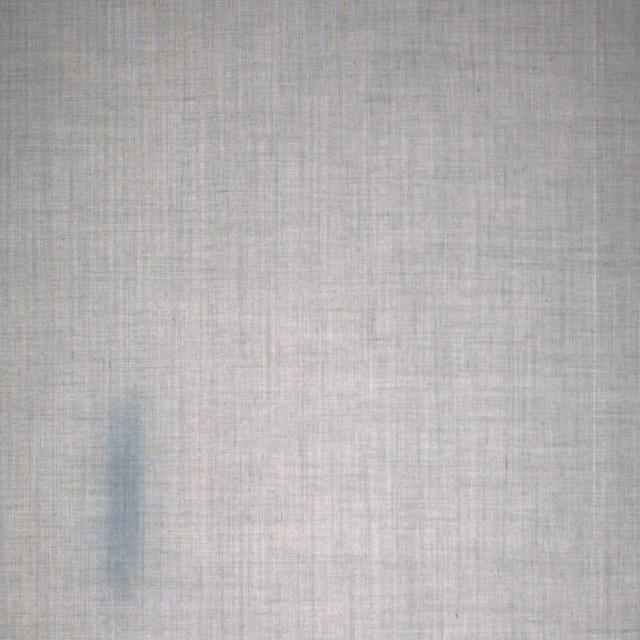dirty: (104, 394, 142, 591)
